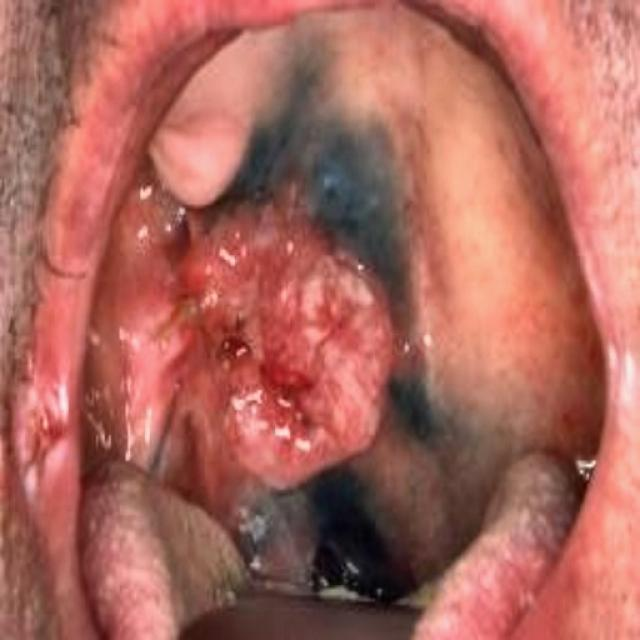cancer-detection: (121, 179, 399, 594)
processing_area: (39, 0, 617, 639)
